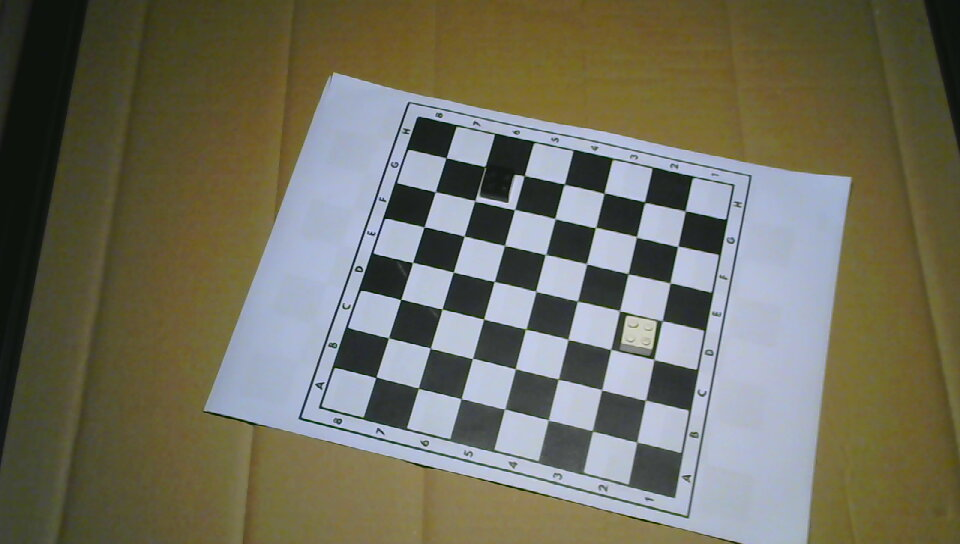bp: (478, 163, 516, 203)
wp: (619, 313, 658, 356)
